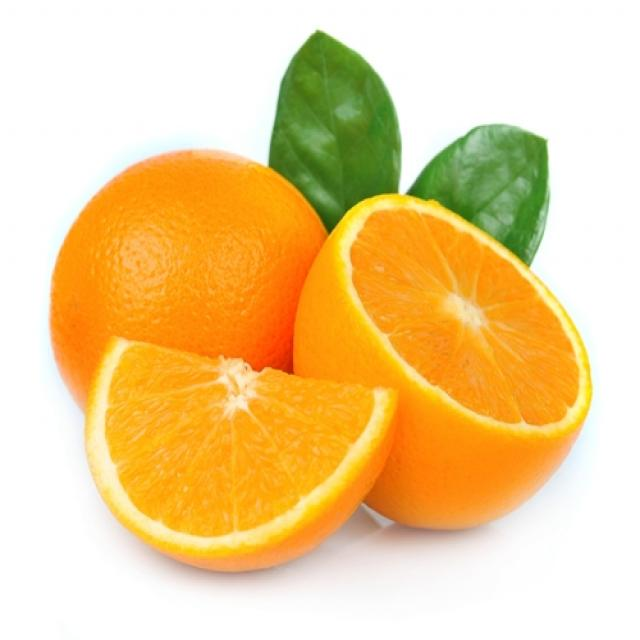orange: (48, 26, 596, 582)
